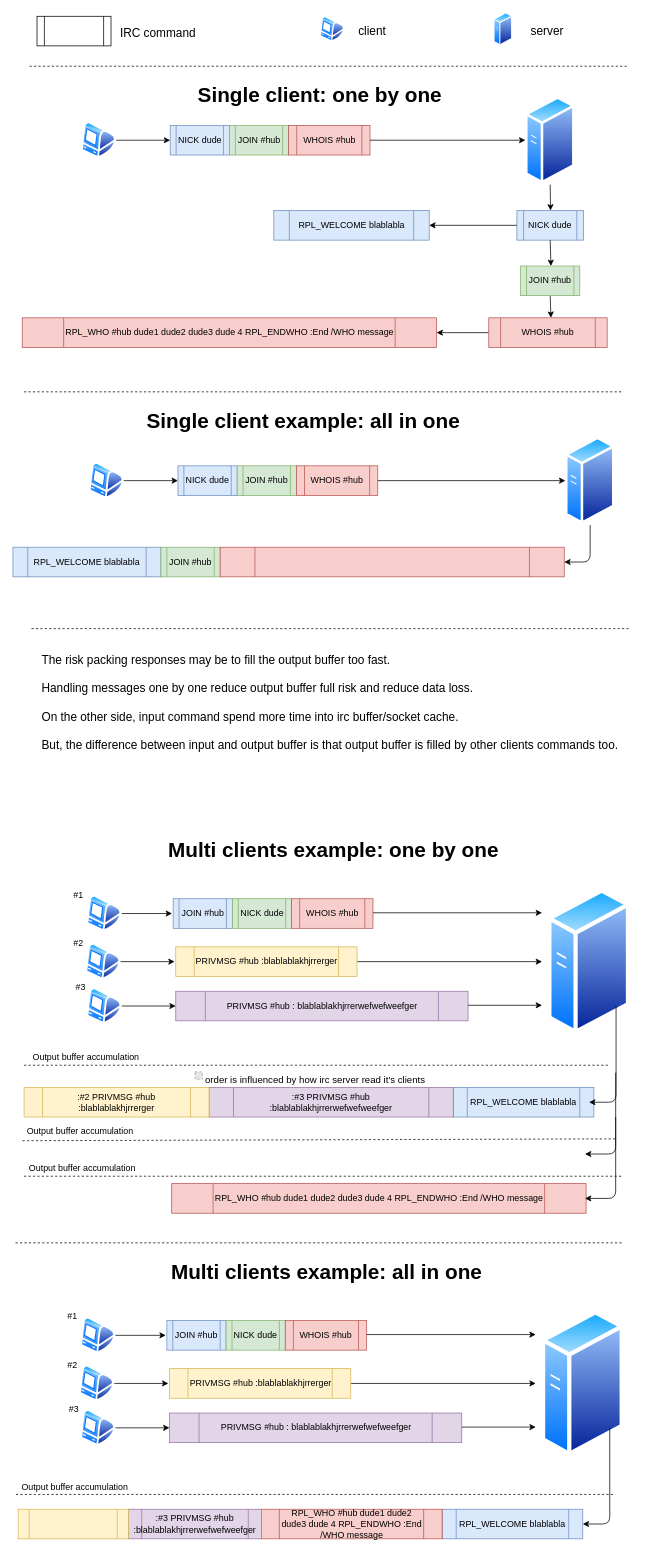
The diagram is 645 pixels wide and 1553 high, and some of its shapes have lost their labels. Grey dashed boxes stand in for pictures. Each missing label, with the centre of its shape:
":#4 PRIVMSG #hub :blablablakhjrrerger" belongs at point 72,1523.
"NICK blabala" belongs at point 73,31.
"RPL_WHO #hub dude1 dude2 RPL_ENDWHO :End /WHO message" belongs at point 391,561.
